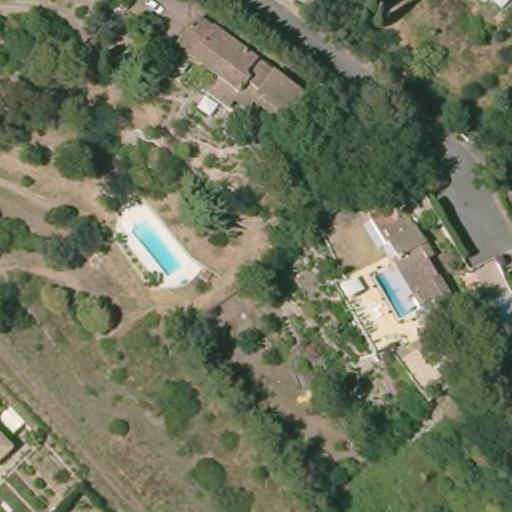pool: (127, 217, 188, 277), (370, 267, 426, 324)
